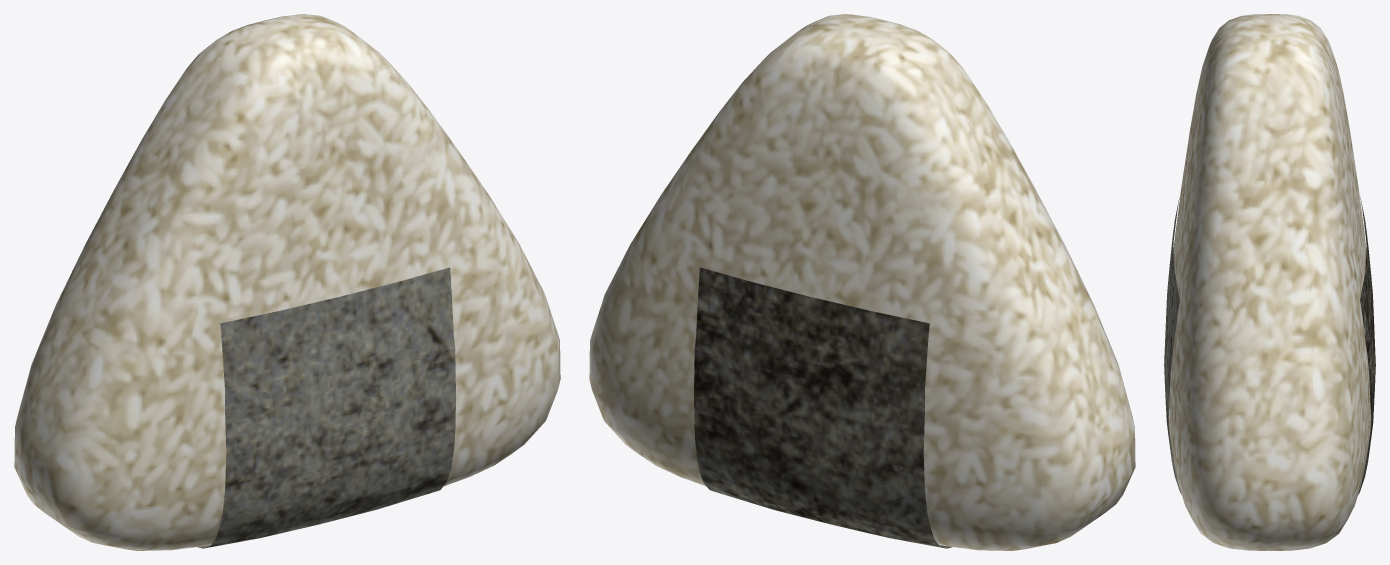
File: food_onigiri2.glb
3 renders of one model, left to right at view 1: azimuth 30°, elevation 25°; view 2: azimuth 150°, elevation 25°; view 3: azimuth 270°, elevation 25°, orthographic. The views are drawn at different scales.
Parts seen in each view (by area): view 1: mesh; view 2: mesh; view 3: mesh.
Boxes of the visible parts, x1,y1,x2,y2 form: mesh: (14, 14, 560, 550); mesh: (589, 14, 1135, 550); mesh: (1164, 14, 1375, 550).
Bounding box in the file's own units: 0.0779 × 0.07 × 0.0297.
Materials: 1 (1 with a texture image).
